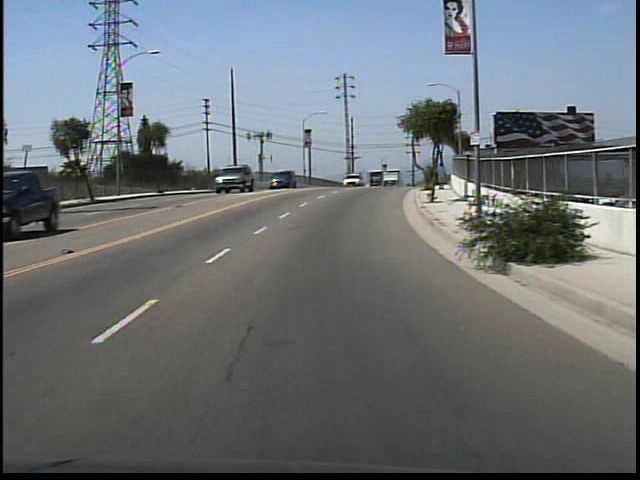person: (437, 162, 448, 193)
